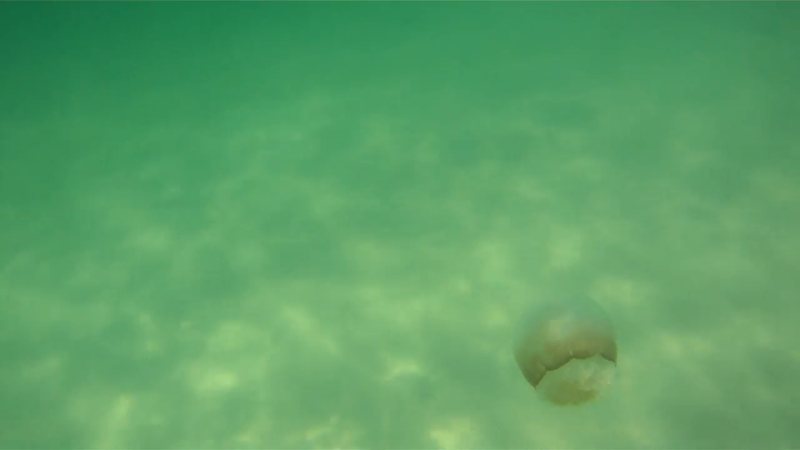yellow jellyfish: (508, 287, 628, 411)
